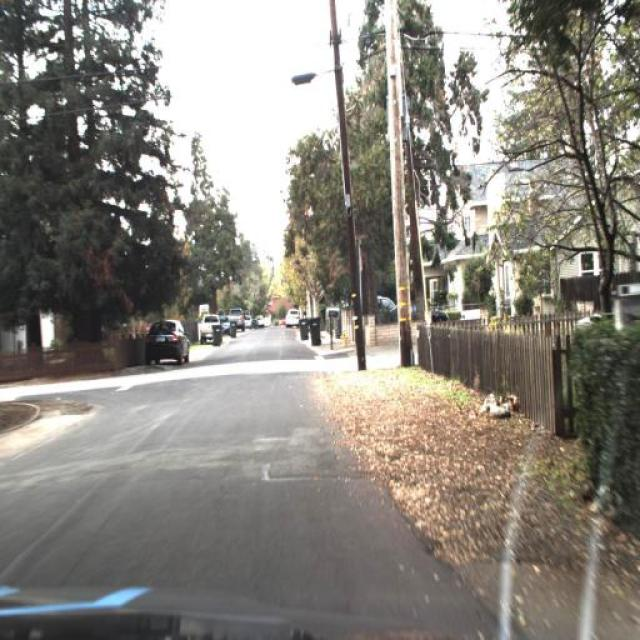car: (143, 313, 192, 365), (145, 317, 187, 367), (388, 300, 448, 328), (197, 305, 227, 350), (363, 291, 399, 320), (196, 310, 220, 342), (284, 308, 301, 328), (228, 306, 242, 330), (220, 316, 234, 336)
